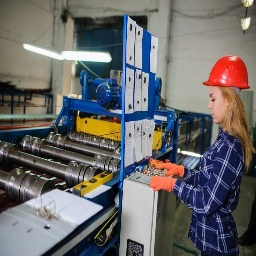helmet: (200, 53, 251, 102)
no-vest: (194, 127, 245, 253)
person: (185, 52, 256, 256)
